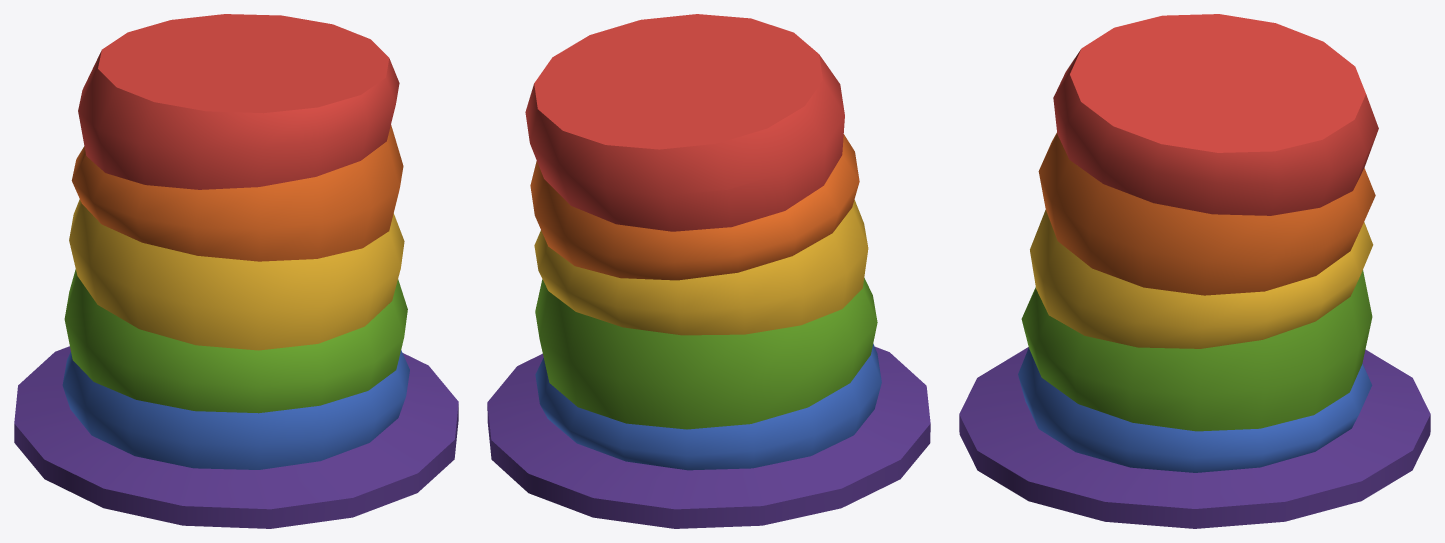
Rendered from rainbowtophat.glb.
3 views of the same model, side by side, from view 1: azimuth 30°, elevation 25°; view 2: azimuth 150°, elevation 25°; view 3: azimuth 270°, elevation 25° (orthographic).
Parts seen in each view (by area): view 1: JA_m_Hat20; view 2: JA_m_Hat20; view 3: JA_m_Hat20.
Part boxes in pixels (x1,y1,x2,y2): JA_m_Hat20: (14,14,458,528); JA_m_Hat20: (487,14,930,528); JA_m_Hat20: (959,14,1430,528).
Bounding box in the file's own units: 1.55 × 1.42 × 1.63.
